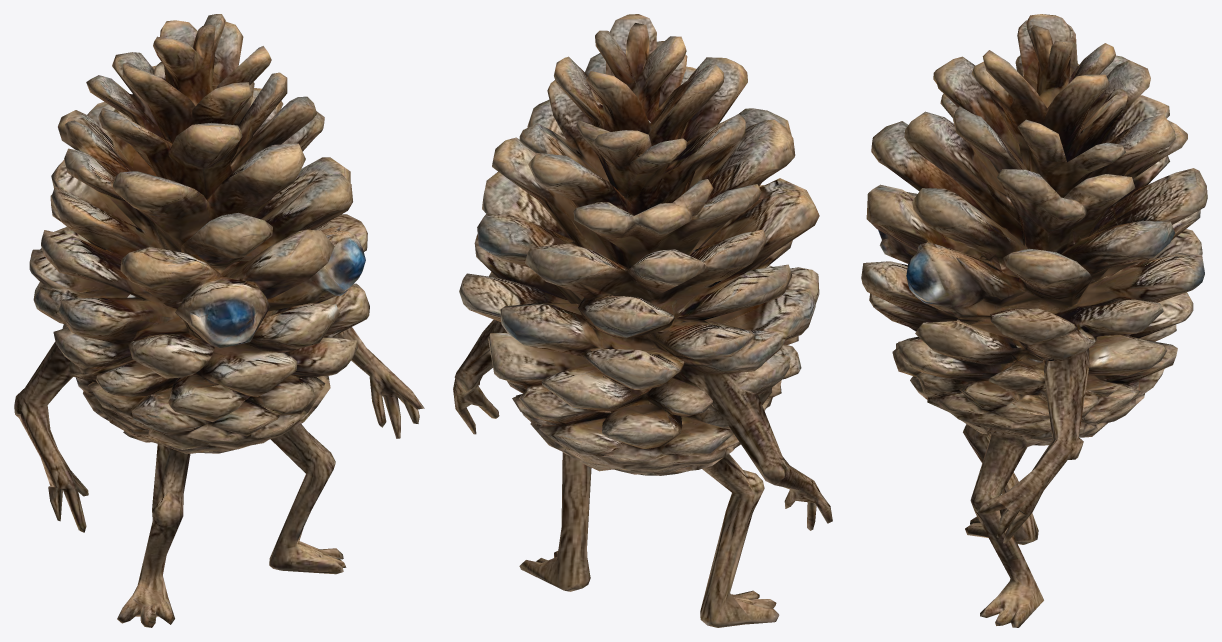
Rendered from Pinecone.glb.
3 views of the same model, side by side, from view 1: azimuth 30°, elevation 25°; view 2: azimuth 150°, elevation 25°; view 3: azimuth 270°, elevation 25° (orthographic). The views are drawn at different scales.
Parts seen in each view (by area): view 1: Mesh1.0; view 2: Mesh1.0; view 3: Mesh1.0.
Part boxes in pixels (x1=…): Mesh1.0: x1=14, y1=14, x2=424, y2=627; Mesh1.0: x1=453, y1=14, x2=832, y2=627; Mesh1.0: x1=861, y1=14, x2=1207, y2=627.
Bounding box in the file's own units: 1.29 × 1.9 × 1.1.
1 material, 1 textured.
